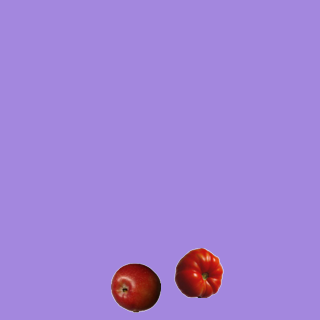Apple Braeburn: (110, 262, 160, 312)
Tomato 3: (173, 247, 223, 297)
